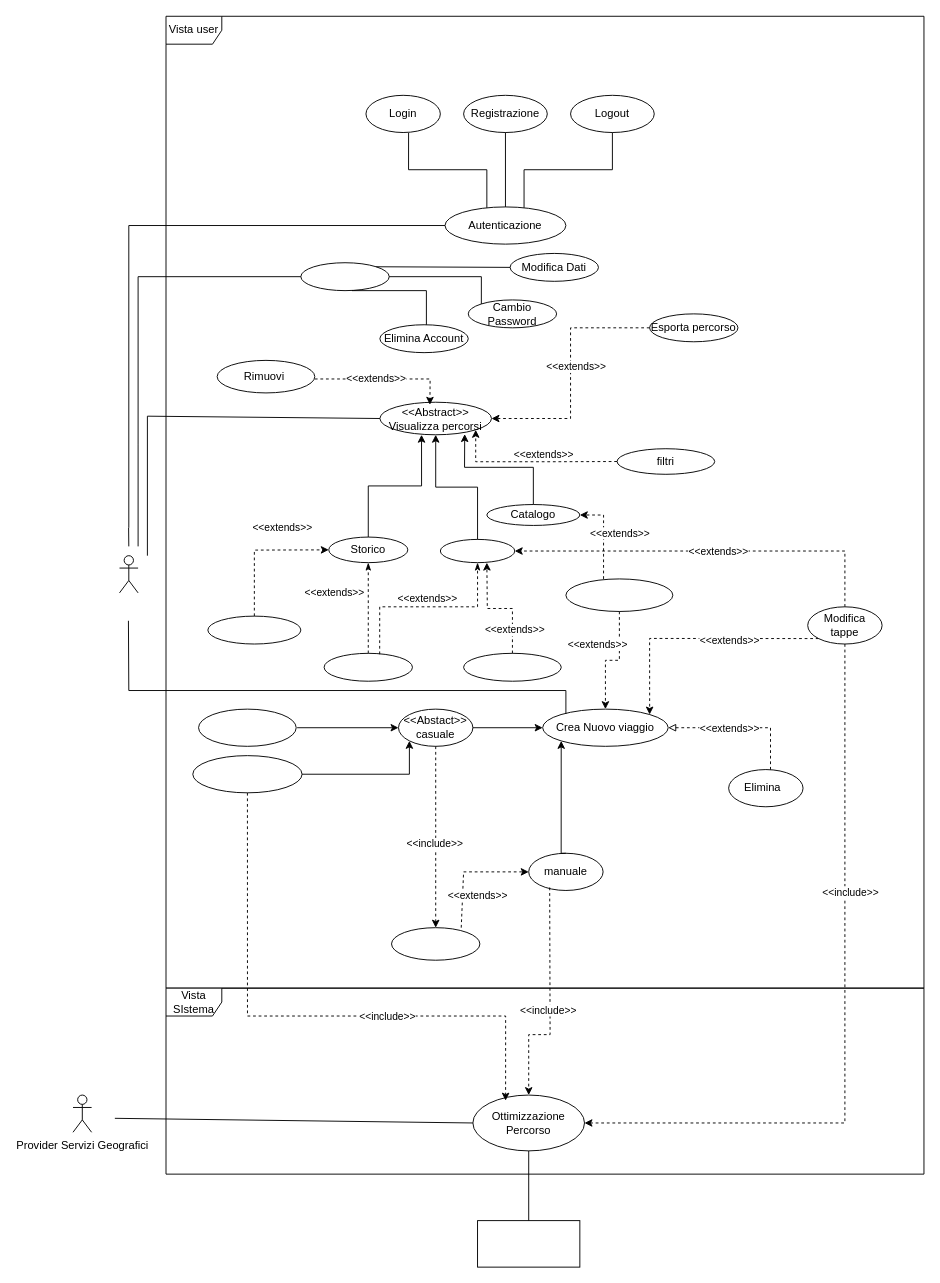
The diagram is 940 pixels wide and 1283 high, and some of its shapes have lost their labels. Here are the shapes that lost their labels. From the top down, the centre of each, then its label:
At [344,276]: "Gestione Profilo".
At [477,550]: "Salvati".
At [128,574]: "Utente".
At [619,594]: "Salva percorso".
At [254,629]: "Aggiungi recensione".
At [367,666]: "Condividi".
At [512,666]: "Imposta completato".
At [247,727]: "Percorso esistente".
At [247,774]: "percorso nuovo".
At [435,943]: "Scelta tempistiche".
At [528,1243]: "«actor» SISTEMA".
